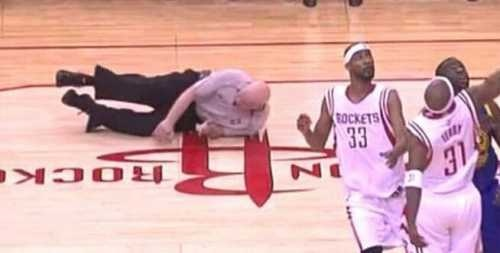falling: (23, 46, 265, 145)
